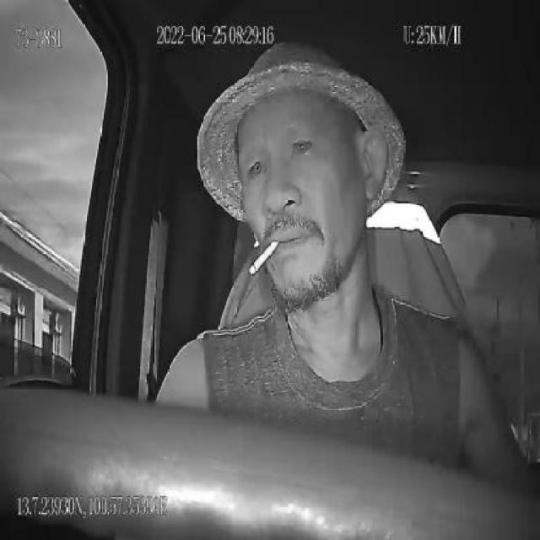smoking: (248, 239, 280, 275)
